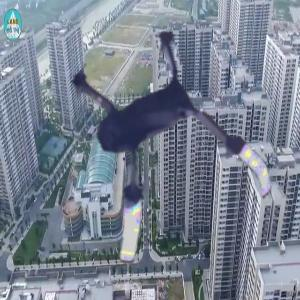drone: (19, 11, 285, 277)
